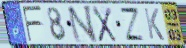8: (46, 6, 68, 42)
F: (21, 5, 44, 43)
K: (142, 7, 166, 42)
N: (65, 4, 99, 44)
X: (91, 5, 118, 43)
Z: (118, 6, 146, 42)
